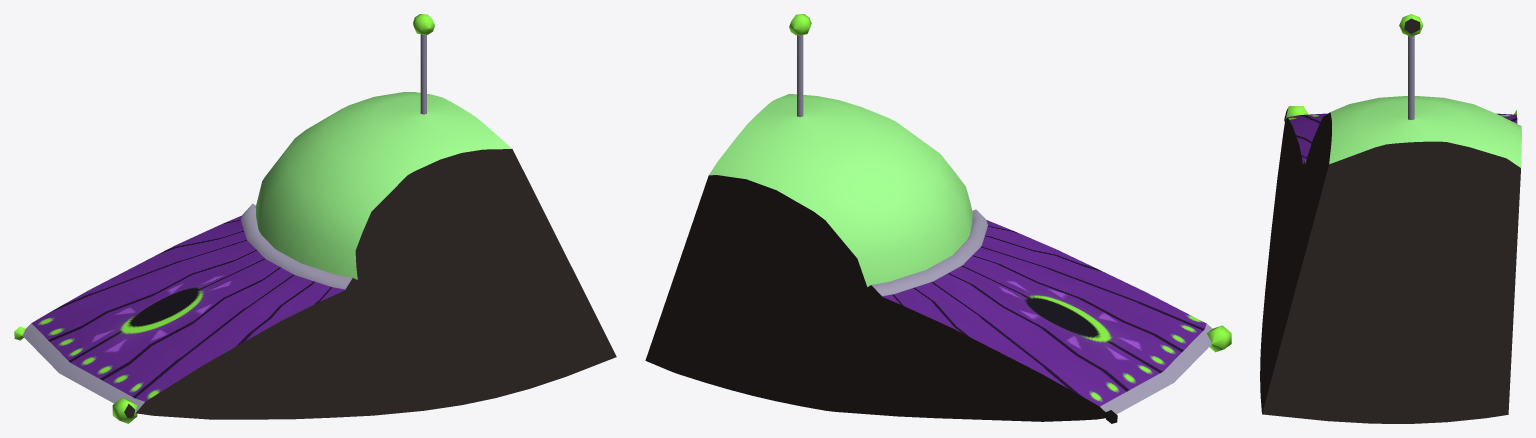
The model's file is raider_saucer_debris3.obj.
3 views of the same model, side by side, from view 1: azimuth 30°, elevation 25°; view 2: azimuth 150°, elevation 25°; view 3: azimuth 270°, elevation 25° (orthographic). The views are drawn at different scales.
Visible parts, largest first — view 1: disc, dome, dome_ring, rim_light, antenna; view 2: disc, dome, dome_ring, rim_light, antenna; view 3: disc, dome, antenna, antenna_ball.
Boxes of the visible parts, left/top/right/bottom form: disc: left=22, top=215, right=616, bottom=419; dome: left=255, top=92, right=556, bottom=288; dome_ring: left=241, top=203, right=363, bottom=295; rim_light: left=14, top=326, right=137, bottom=423; antenna: left=420, top=34, right=426, bottom=114; disc: left=645, top=220, right=1212, bottom=421; dome: left=684, top=93, right=972, bottom=295; dome_ring: left=867, top=209, right=987, bottom=302; rim_light: left=1106, top=325, right=1231, bottom=423; antenna: left=797, top=35, right=803, bottom=117; disc: left=1260, top=113, right=1517, bottom=423; dome: left=1299, top=96, right=1521, bottom=275; antenna: left=1408, top=35, right=1414, bottom=120; antenna_ball: left=1399, top=14, right=1423, bottom=36.
Bounding box in the file's own units: 10.68 × 7.17 × 4.73.
Materials: 5 (1 with a texture image).
